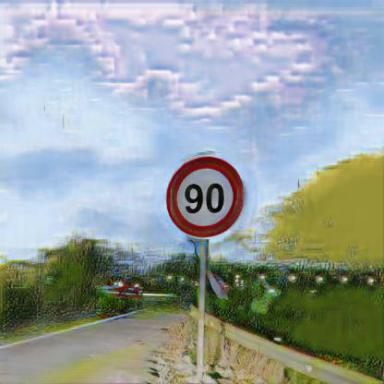Speed_limit_90: (167, 159, 243, 237)
